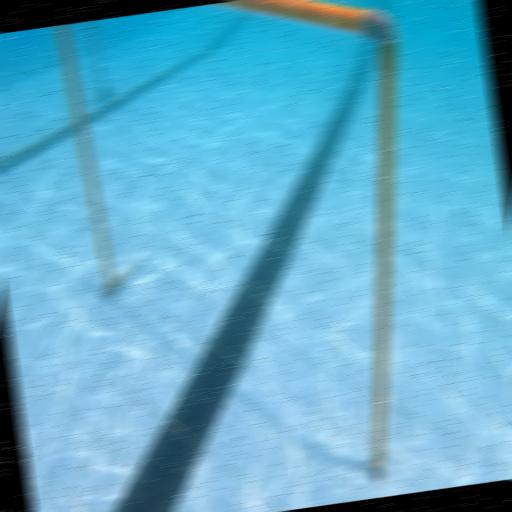gate: (55, 0, 458, 512)
